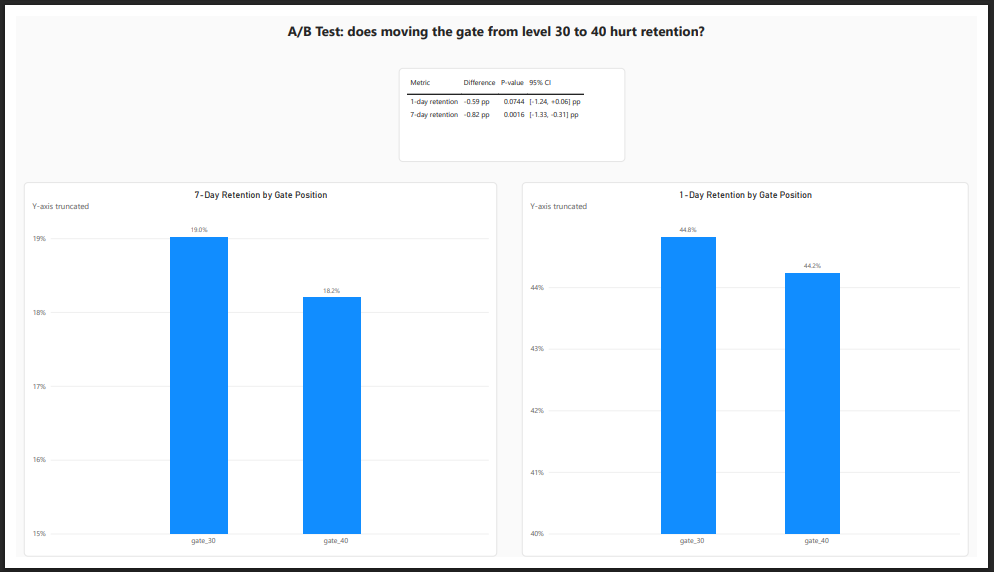

The page's visual inventory and layout, read from the dashboard file:
{"tool":"powerbi","page":{"name":"A/B Result","canvas":[1920,1080],"ordinal":2},"visuals":[{"type":"clusteredColumnChart","title":"7-Day Retention by Gate Position","fields":{"Category":["cookie_cats.version"],"Y":["cookie_cats.Retention 7d %"]},"box":[15.9,331.6,944.9,747.3],"z":0},{"type":"columnChart","title":"1-Day Retention by Gate Position","fields":{"Category":["cookie_cats.version"],"Y":["cookie_cats.Retention 1d %"]},"box":[1010.7,331.6,892.6,747.3],"z":1},{"type":"tableEx","fields":{"Values":["ab_results.Metric","ab_results.Difference","ab_results.P-value","ab_results.95% CI"]},"box":[765.4,104.5,452,186.2],"z":2},{"type":"textbox","box":[0,11.4,1919.3,59.1],"z":3}]}

Visuals, with their boxes in screenshot pixels (x1, y1, x2, y2), scaled from the page's 1920x1080 canvas onto the 994x572 screenshot:
"7-Day Retention by Gate Position" clusteredColumnChart: x1=8, y1=176, x2=497, y2=571
"1-Day Retention by Gate Position" columnChart: x1=523, y1=176, x2=985, y2=571
tableEx - ab_results.Metric x ab_results.Difference: x1=396, y1=55, x2=630, y2=154
textbox: x1=0, y1=6, x2=993, y2=37
